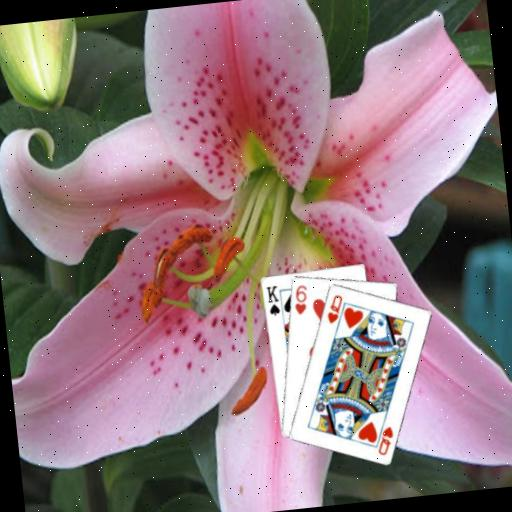6H: (289, 282, 311, 317)
KS: (263, 282, 282, 318)
QH: (369, 416, 397, 457), (322, 290, 347, 325)
